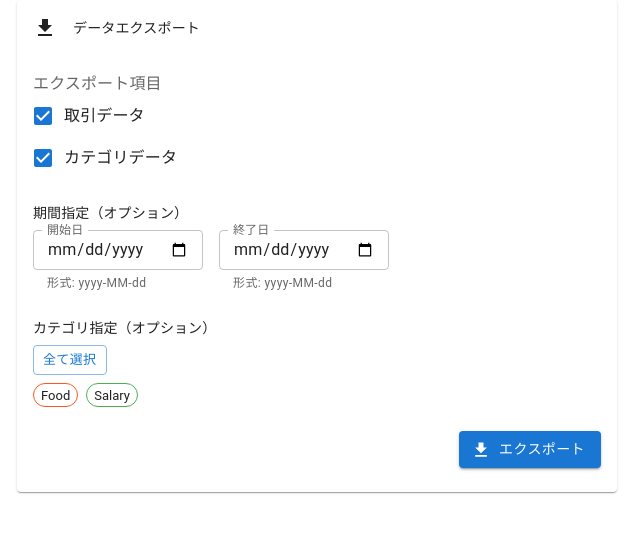
Test: DataExport › should toggle category selection
Click the button "Food" at {"x": 56, "y": 395}, box 33,383 -> 78,407
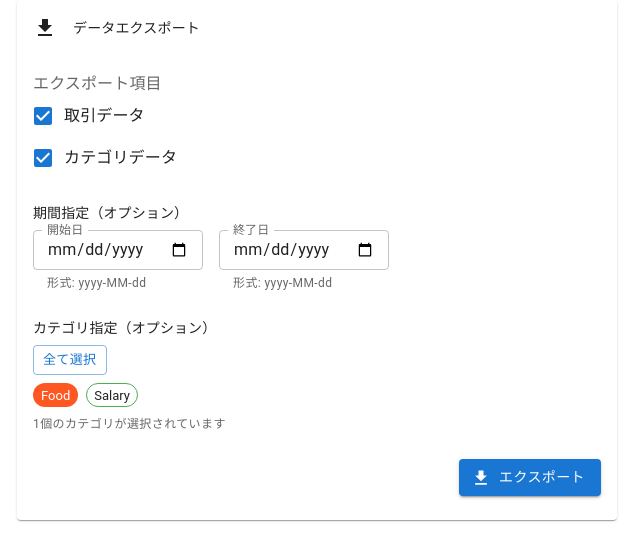
expect the text "1個のカテゴリが選択されています" is shown: met, box 33,417 -> 226,431
